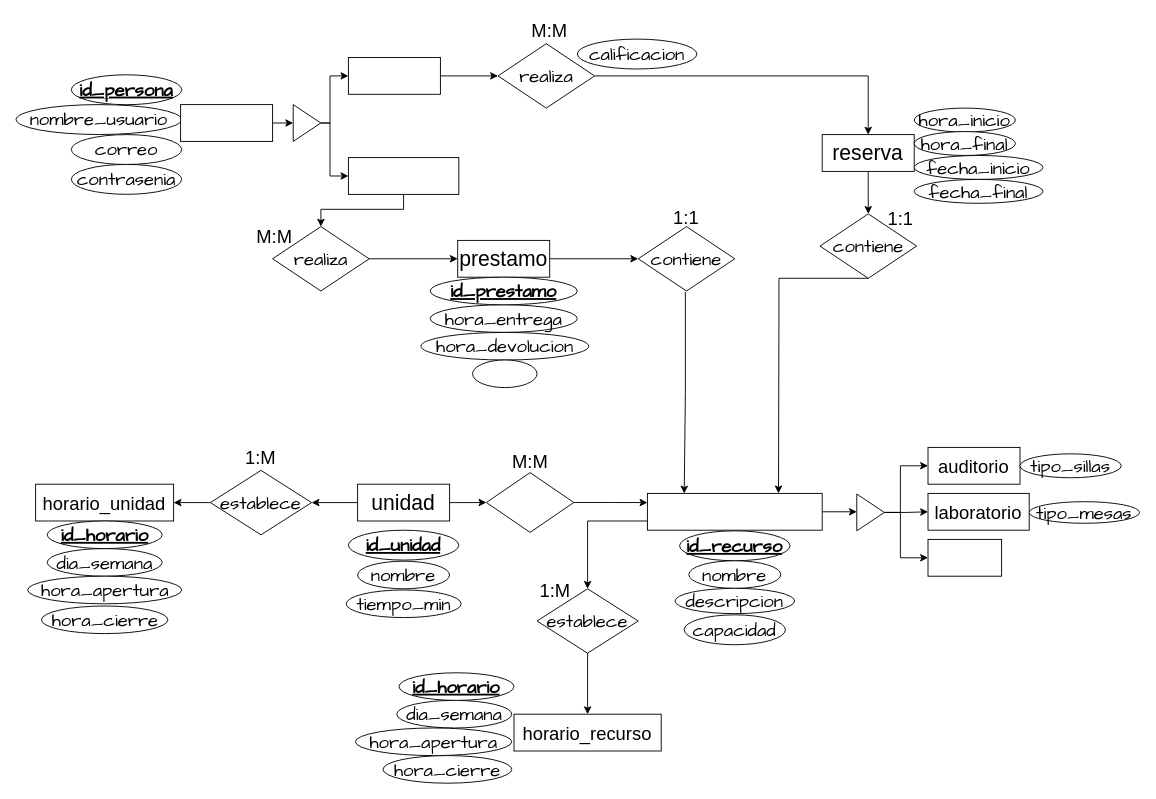
This 1156x799 diagram has some shape labels left out. The centre of each missing label's shape, as x and y in pixels:
empleado: point 403,175
fallo: point 504,373
persona: point 226,122
recurso: point 734,511
registra: point 529,502
salon: point 964,557
usuario: point 393,75
